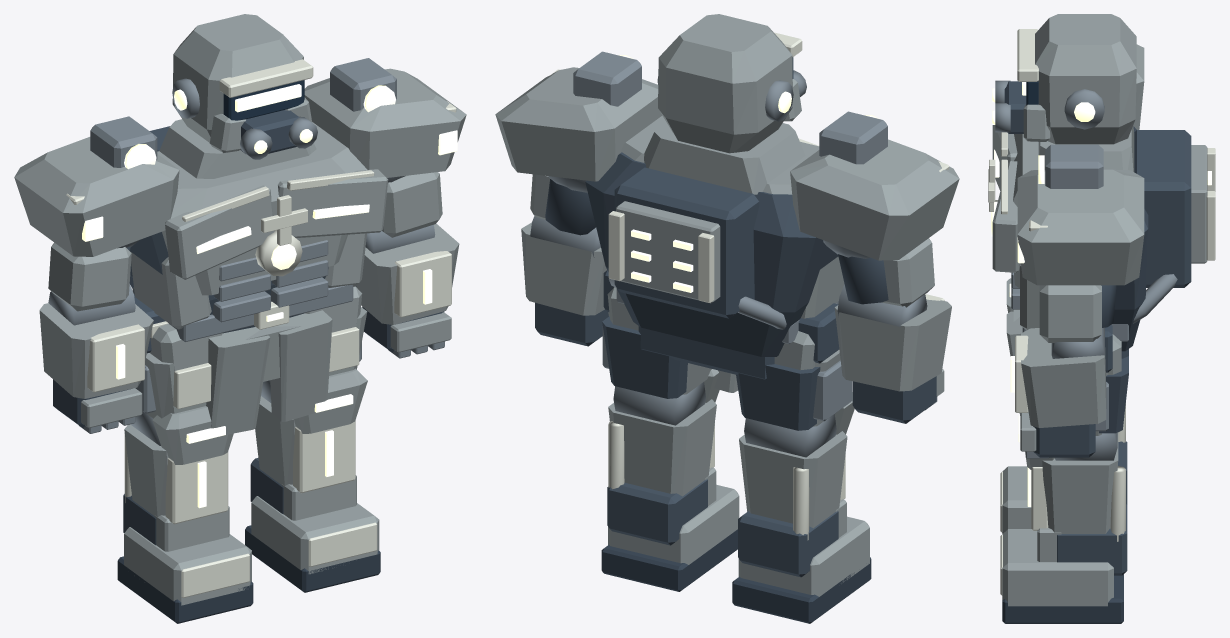
File: character_warden.glb
The picture shows the model from 3 angles, left to right: view 1: azimuth 30°, elevation 25°; view 2: azimuth 150°, elevation 25°; view 3: azimuth 270°, elevation 25°; orthographic projection. The views are drawn at different scales.
Visible parts, largest first — view 1: shoulder_pauldron_63, shoulder_pauldron_78, helmet_94, thorax_carapace_2, armored_tabard_130, armored_tabard_125, pectoral_plate_3, forearm_bracer_69, pectoral_plate_13, boot_toe_31, boot_toe_47, upper_arm_plate_67 (+53 smaller); view 2: shoulder_pauldron_63, helmet_94, torso_1, shoulder_pauldron_78, reactor_pack_108, forearm_bracer_69, shin_armor_51, shin_armor_35, neck_guard_collar_93, reactor_armored_cover_109, forearm_bracer_84, boot_ankle_49 (+32 smaller); view 3: shoulder_pauldron_78, helmet_94, reactor_pack_108, forearm_bracer_84, boot_toe_47, shin_armor_51, upper_arm_plate_82, shoulder_floodlight_housing_128, boot_sole_46, boot_ankle_49, pectoral_plate_13, reactor_armored_cover_109 (+31 smaller).
Part boxes in pixels (box(x1,y1,x2,y2)): shoulder_pauldron_63: box(14, 137, 179, 256); shoulder_pauldron_78: box(304, 68, 466, 177); helmet_94: box(172, 14, 303, 142); thorax_carapace_2: box(157, 122, 367, 295); armored_tabard_130: box(270, 310, 332, 421); armored_tabard_125: box(206, 327, 270, 434); pectoral_plate_3: box(165, 185, 274, 279); forearm_bracer_69: box(39, 303, 153, 398); pectoral_plate_13: box(278, 169, 388, 237); boot_toe_31: box(124, 527, 251, 605); boot_toe_47: box(251, 496, 379, 574); upper_arm_plate_67: box(48, 242, 131, 311); shoulder_pauldron_63: box(790, 139, 959, 260); helmet_94: box(658, 14, 792, 153); torso_1: box(585, 152, 838, 356); shoulder_pauldron_78: box(495, 67, 662, 181); reactor_pack_108: box(614, 167, 759, 318); forearm_bracer_69: box(834, 299, 951, 391); shin_armor_51: box(608, 399, 716, 496); shin_armor_35: box(739, 431, 847, 528); neck_guard_collar_93: box(644, 123, 805, 194); reactor_armored_cover_109: box(616, 201, 720, 303); forearm_bracer_84: box(521, 222, 606, 315); boot_ankle_49: box(607, 479, 707, 545); shoulder_pauldron_78: box(1017, 169, 1144, 285); helmet_94: box(1035, 14, 1136, 144); reactor_pack_108: box(1134, 130, 1191, 287); forearm_bracer_84: box(1021, 328, 1106, 427); boot_toe_47: box(1002, 529, 1113, 606); shin_armor_51: box(1042, 432, 1118, 533); upper_arm_plate_82: box(1039, 285, 1101, 342); shoulder_floodlight_housing_128: box(1045, 144, 1103, 188); boot_sole_46: box(1002, 574, 1123, 623); boot_ankle_49: box(1057, 504, 1127, 575); pectoral_plate_13: box(992, 161, 1020, 272); reactor_armored_cover_109: box(1191, 145, 1207, 263).
Size of the model in its own units: 1.86 by 2.37 by 0.895.
